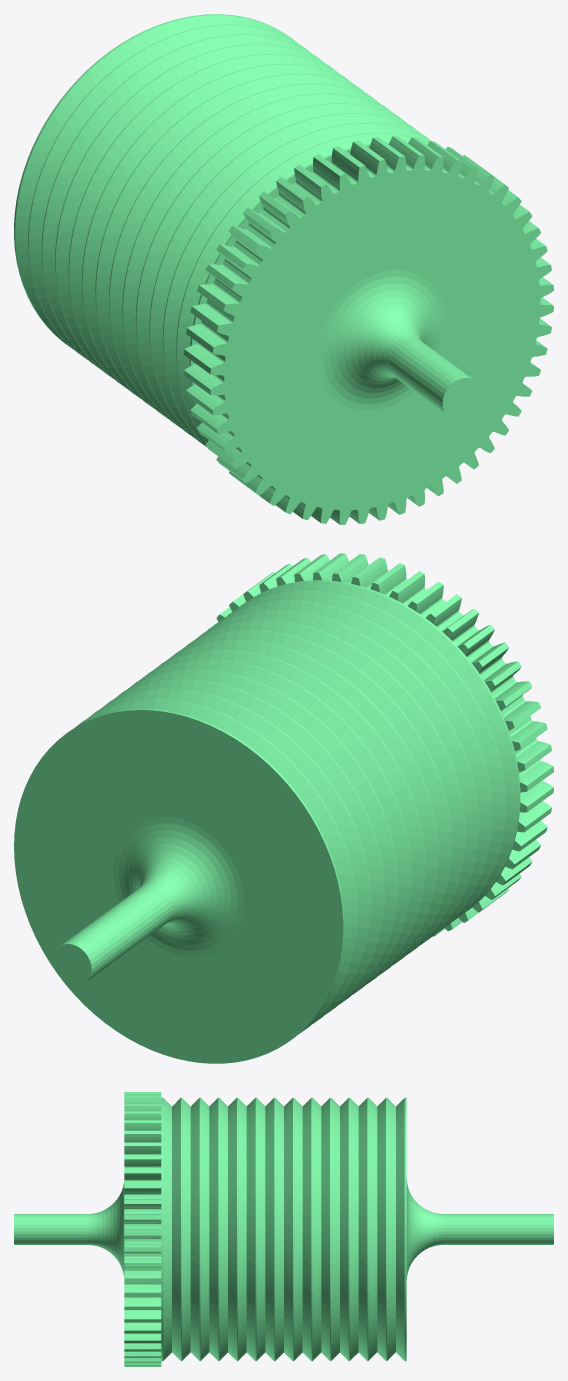
Rendered from seed_roller.glb.
The picture shows the model from 3 angles, top to bottom: view 1: azimuth 30°, elevation 25°; view 2: azimuth 150°, elevation 25°; view 3: azimuth 270°, elevation 25°; orthographic projection. The views are drawn at different scales.
Bounding box in the file's own units: 71.06 × 71.12 × 140.
